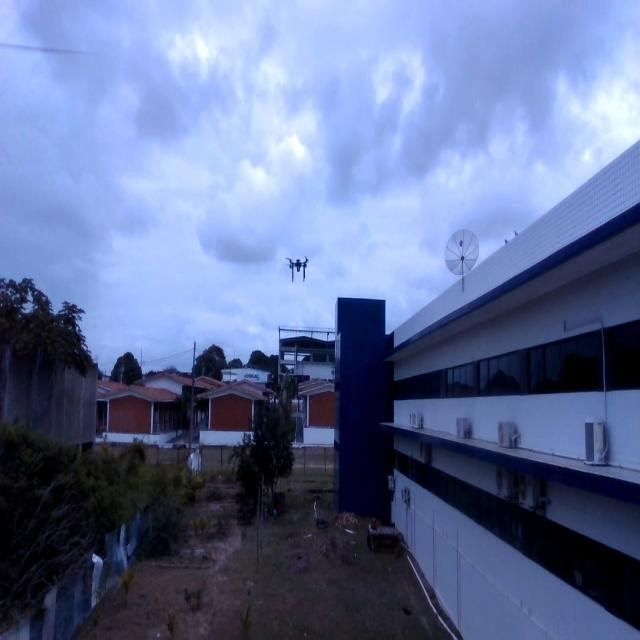-uav-: (284, 258, 312, 290)
